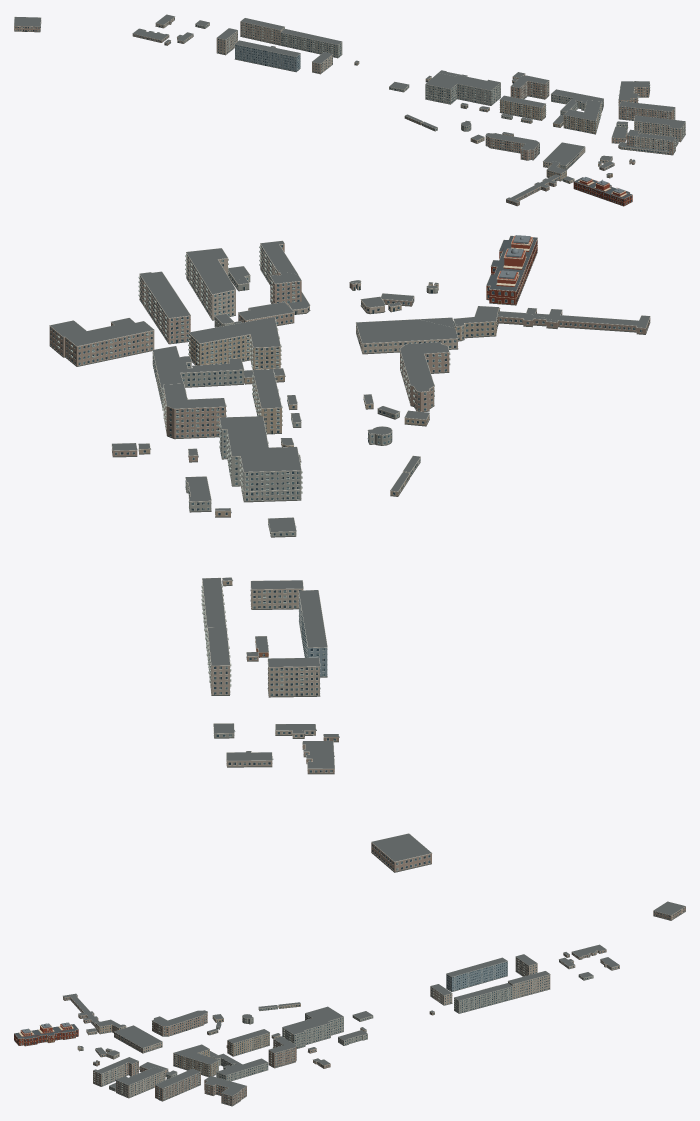
Rendered from kazan-station-district.glb.
3 renders of one model, top to bottom at view 1: azimuth 30°, elevation 25°; view 2: azimuth 150°, elevation 25°; view 3: azimuth 270°, elevation 25°, orthographic. The views are drawn at different scales.
Visible parts, largest first — view 1: Вокзальный квартал · участок (×11); view 2: Вокзальный квартал · участок (×11); view 3: Вокзальный квартал · участок (×11).
Part boxes in pixels (x1,y1,x2,y2): Вокзальный квартал · участок (×11): (14, 14, 685, 206); Вокзальный квартал · участок (×11): (49, 235, 650, 872); Вокзальный квартал · участок (×11): (14, 901, 685, 1106).
Size of the model in its own units: 618 by 25.2 by 880.
11 materials, 5 textured.
